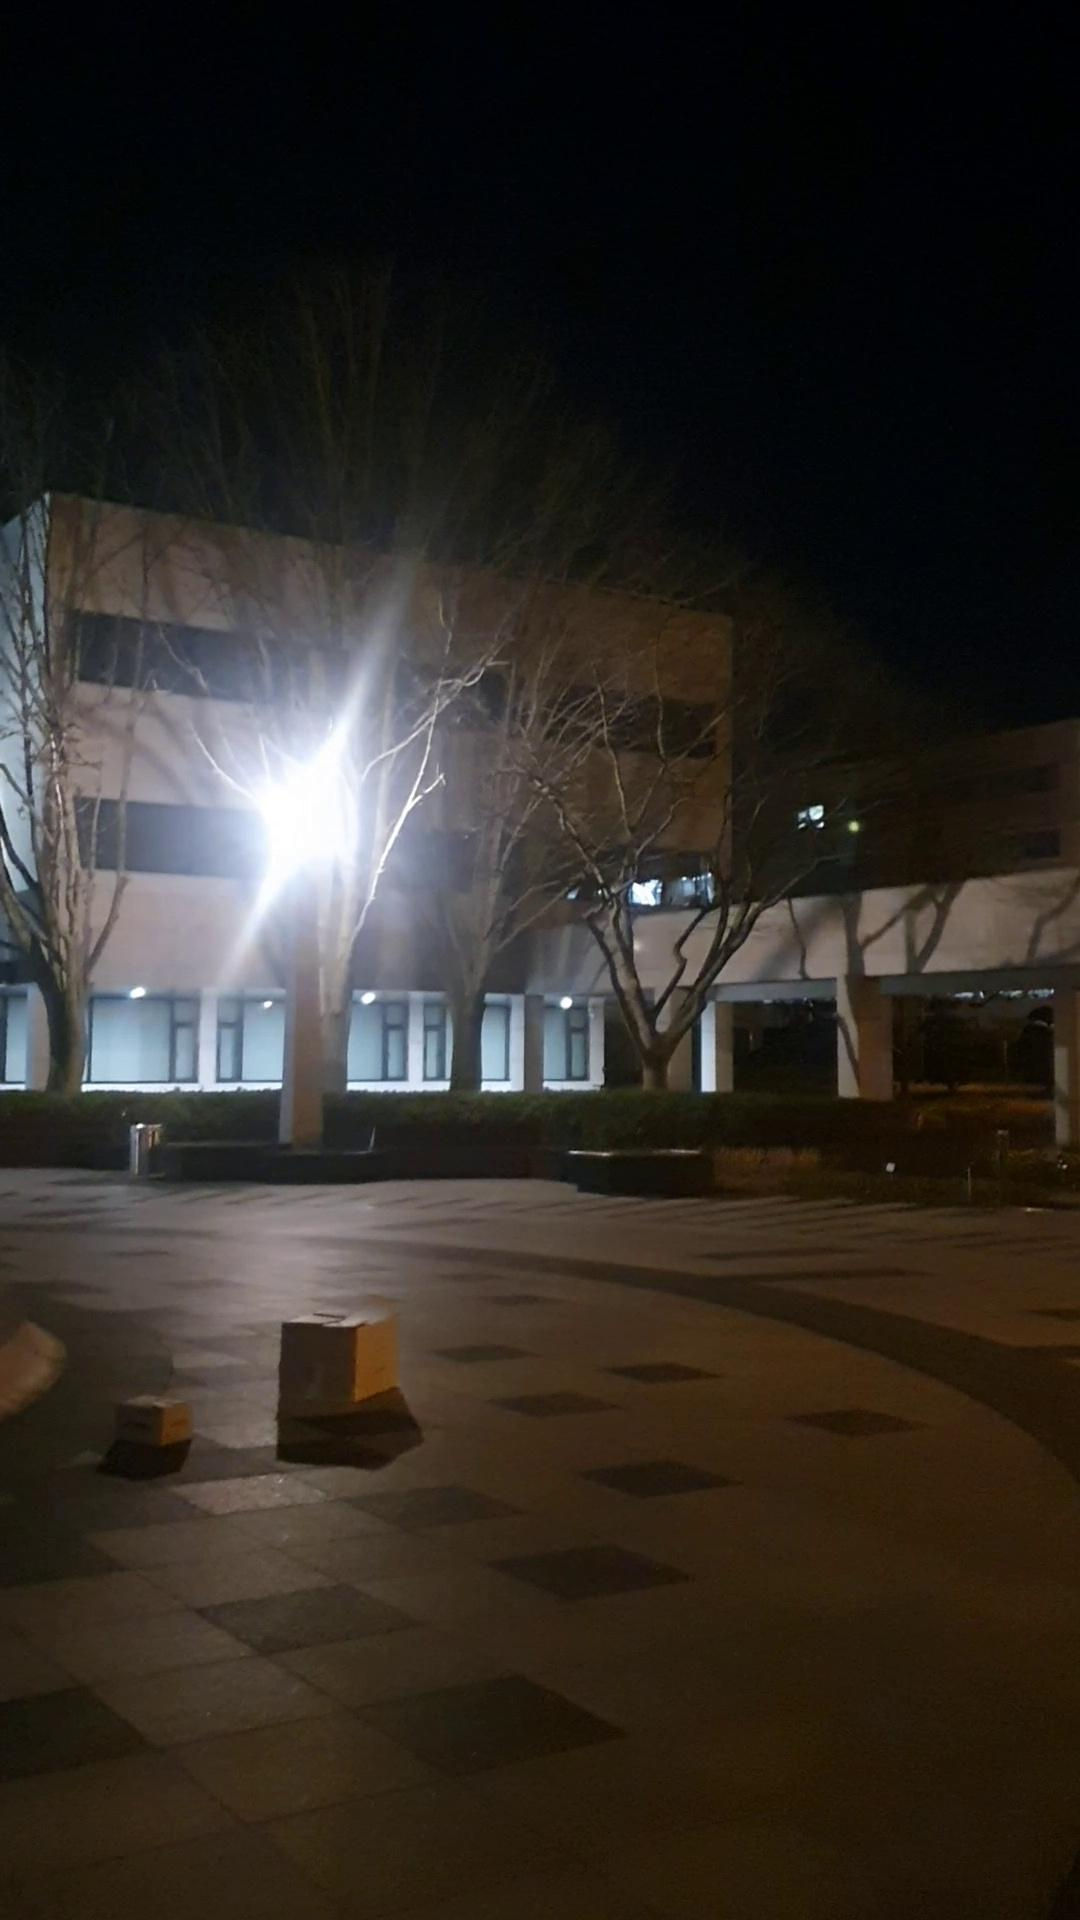Box: (272, 1298, 413, 1428), (116, 1383, 195, 1453)
